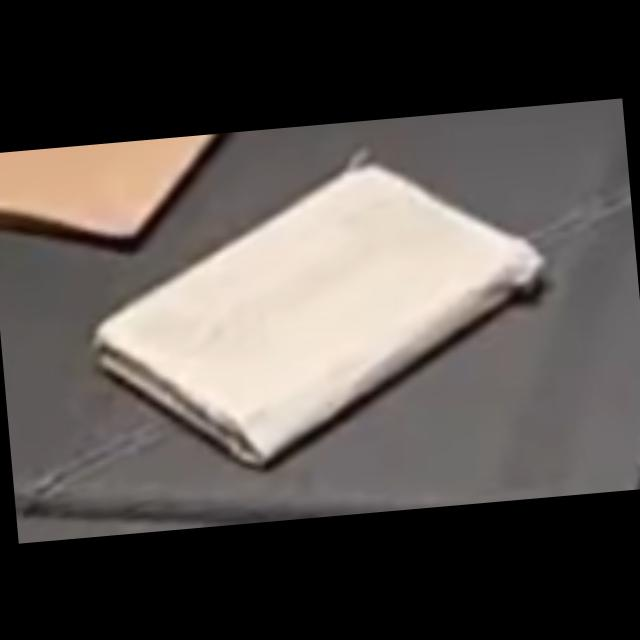mailer: (82, 145, 552, 481)
